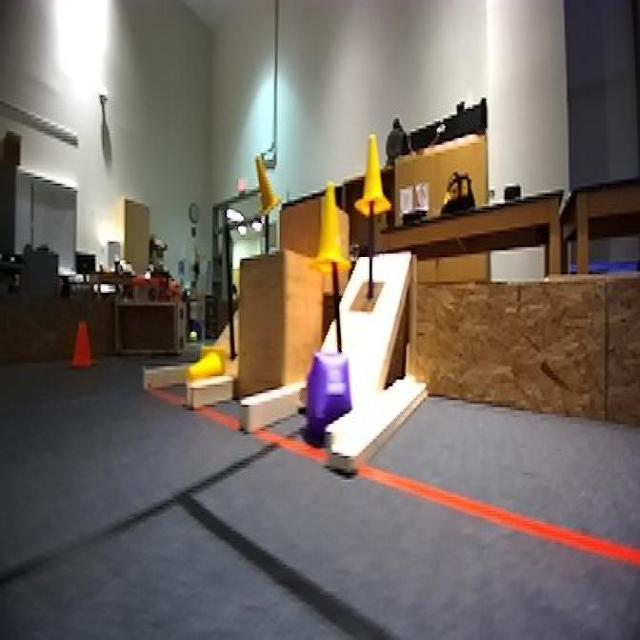frc_cone: (316, 174, 356, 269), (357, 140, 388, 216), (254, 152, 284, 220), (186, 342, 230, 385)
frc_cube: (299, 352, 351, 444)
